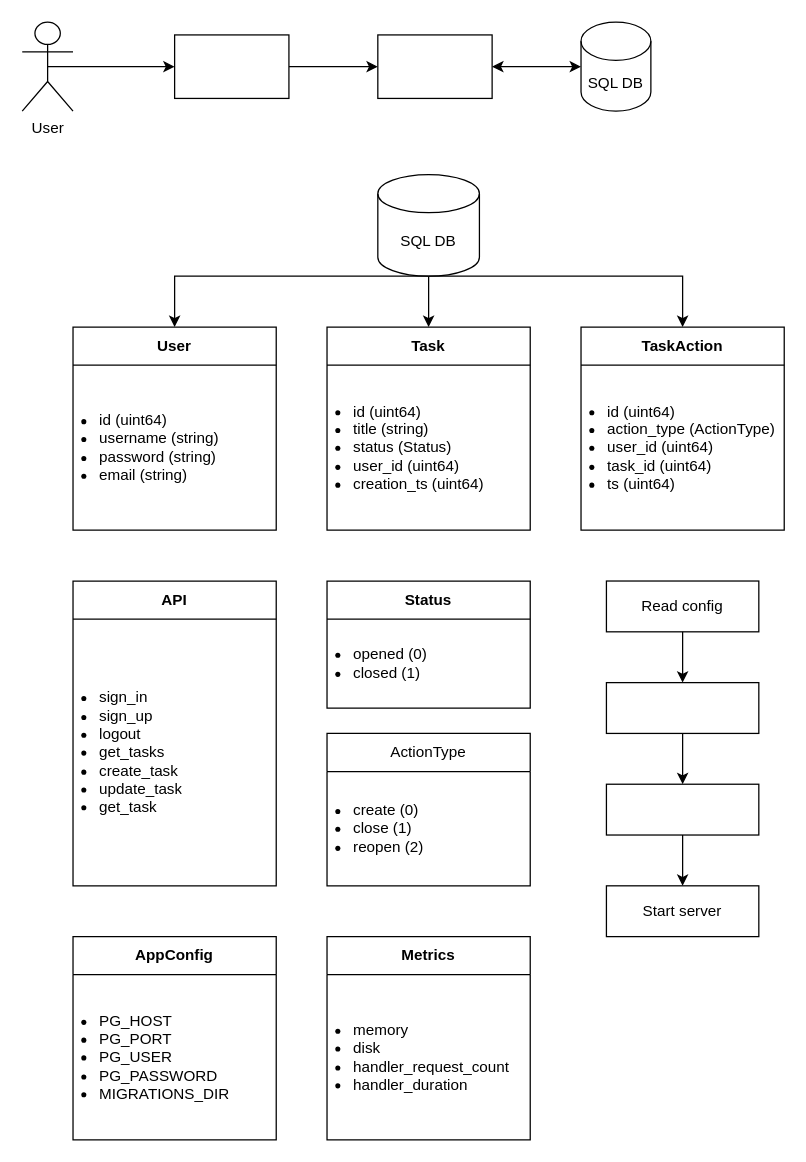
This 806x1162 diagram has some shape labels left out. Each missing label, with the centre of its shape:
Run pg migrations: the point at 682,809
Start metrics server: the point at 682,707
Telegram Bot API: the point at 231,66
TODO List backend: the point at 434,66
